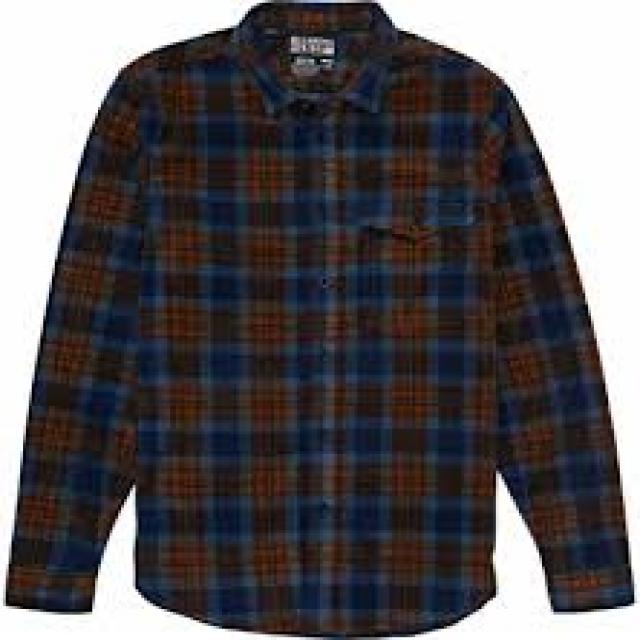plaid: (9, 3, 634, 640)
